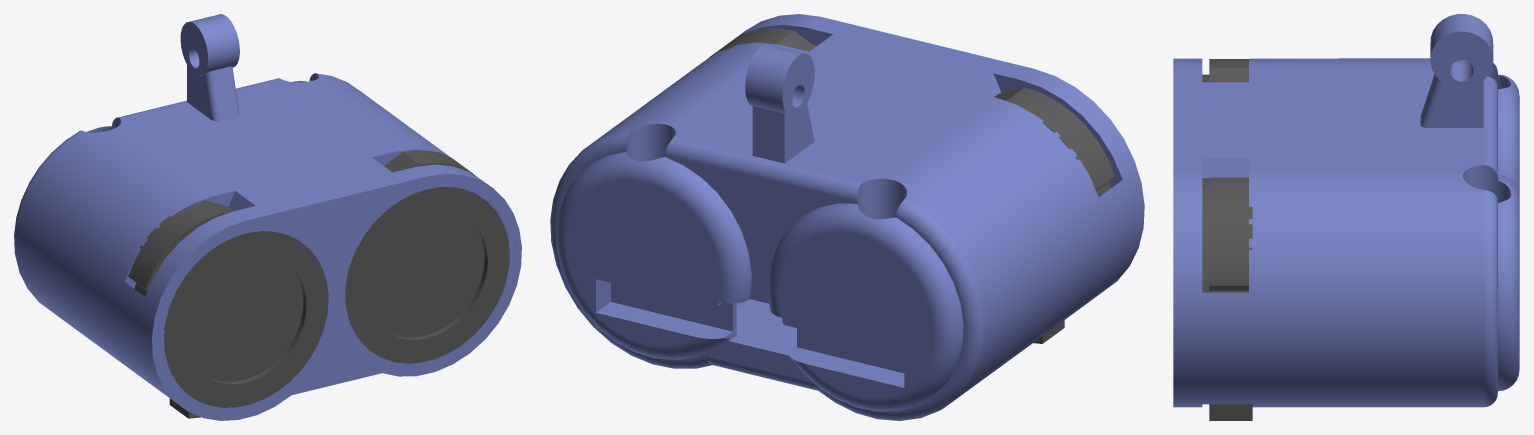
Rendered from Frontoluz.glb.
The picture shows the model from 3 angles, left to right: view 1: azimuth 30°, elevation 25°; view 2: azimuth 150°, elevation 25°; view 3: azimuth 270°, elevation 25°; orthographic projection. The views are drawn at different scales.
Parts seen in each view (by area): view 1: FRONTOLUZ v18; view 2: FRONTOLUZ v18; view 3: FRONTOLUZ v18.
Part boxes in pixels (x1,y1,x2,y2): FRONTOLUZ v18: [14, 14, 521, 420]; FRONTOLUZ v18: [550, 14, 1144, 420]; FRONTOLUZ v18: [1173, 14, 1519, 420].
Size of the model in its own units: 6.74 by 5.02 by 4.8.
